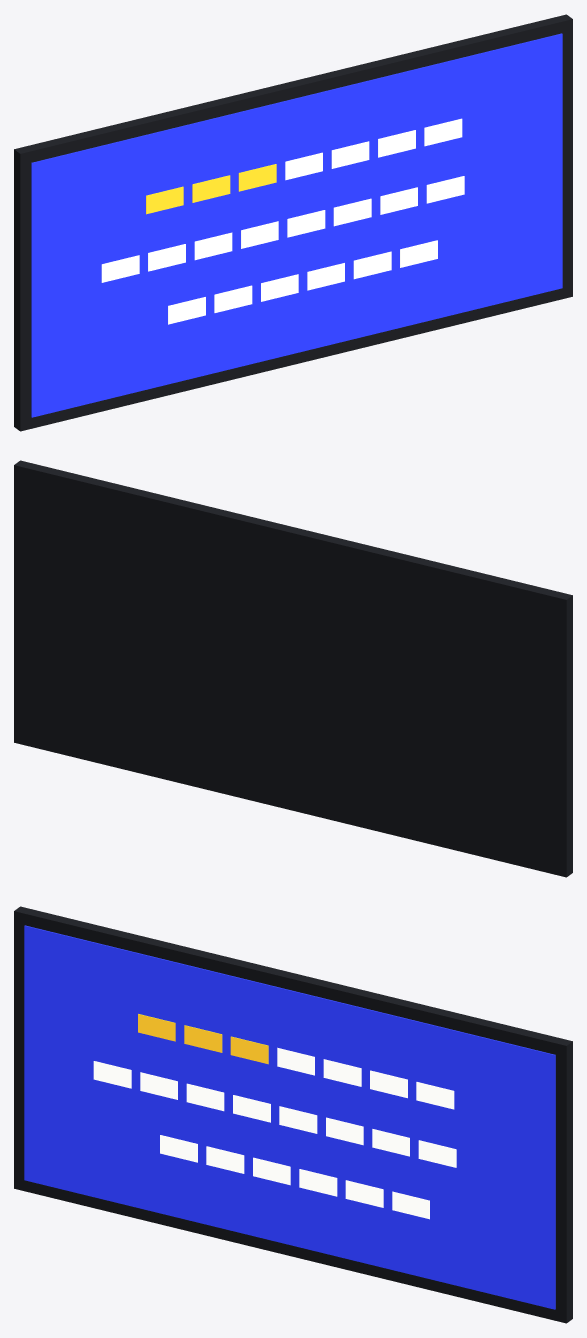
The model's file is lyrics_screen.glb.
The picture shows the model from 3 angles, top to bottom: view 1: azimuth 30°, elevation 25°; view 2: azimuth 150°, elevation 25°; view 3: azimuth 330°, elevation 25°; orthographic projection.
Parts seen in each view (by area): view 1: screen_lyrics_blue, frame_lyrics_frame, word_lyrics_word, word_lyrics_sung; view 2: frame_lyrics_frame; view 3: screen_lyrics_blue, frame_lyrics_frame, word_lyrics_word, word_lyrics_sung.
Boxes of the visible parts, x1=… form: screen_lyrics_blue: x1=31, y1=33, x2=562, y2=417; frame_lyrics_frame: x1=14, y1=14, x2=572, y2=431; word_lyrics_word: x1=101, y1=118, x2=464, y2=324; word_lyrics_sung: x1=146, y1=164, x2=276, y2=214; frame_lyrics_frame: x1=14, y1=460, x2=572, y2=877; screen_lyrics_blue: x1=24, y1=925, x2=555, y2=1309; frame_lyrics_frame: x1=14, y1=906, x2=572, y2=1323; word_lyrics_word: x1=93, y1=1047, x2=456, y2=1219; word_lyrics_sung: x1=138, y1=1014, x2=268, y2=1064.
Bounding box in the file's own units: 5 × 2.4 × 0.1145.
